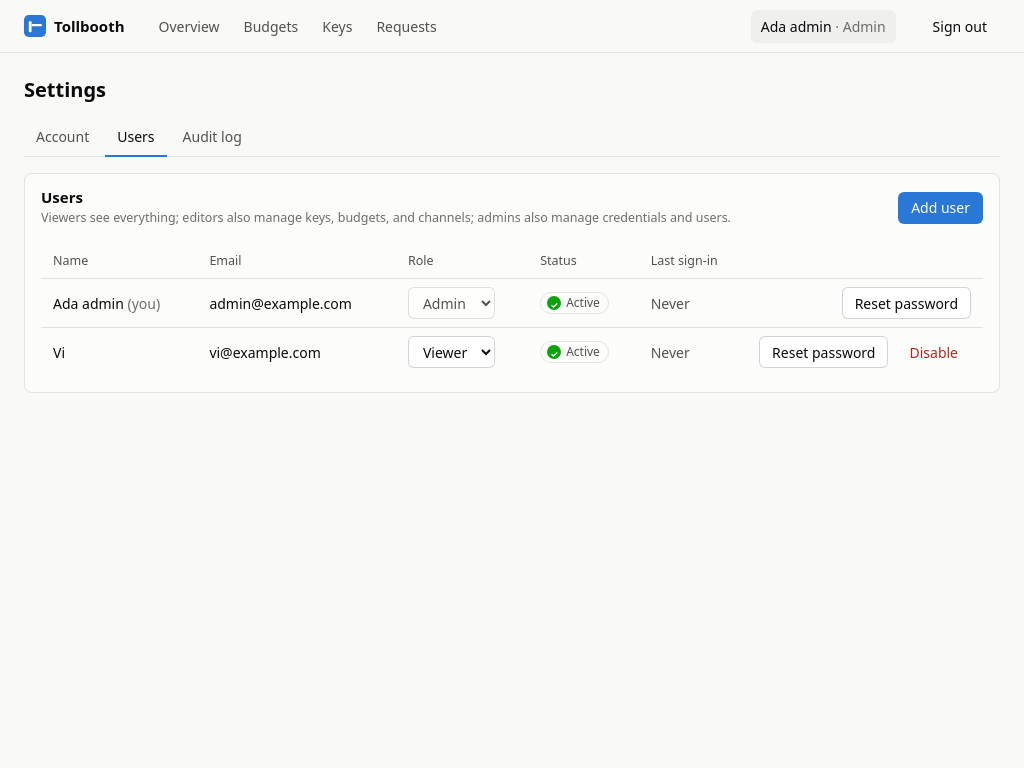
Test case: users settings › changes roles, disables users, and resets passwords
expect the text "(you)" is shown: met, box left=124, top=294, right=160, bottom=313
expect the dropdown named "Role for admin@example.com" in the row of "(you)" is disabled: met, box left=408, top=287, right=495, bottom=319
Select "Editor" in the dropdown named "Role for vi@example.com" next to "vi@example.com" at (451, 352), box left=408, top=336, right=495, bottom=368
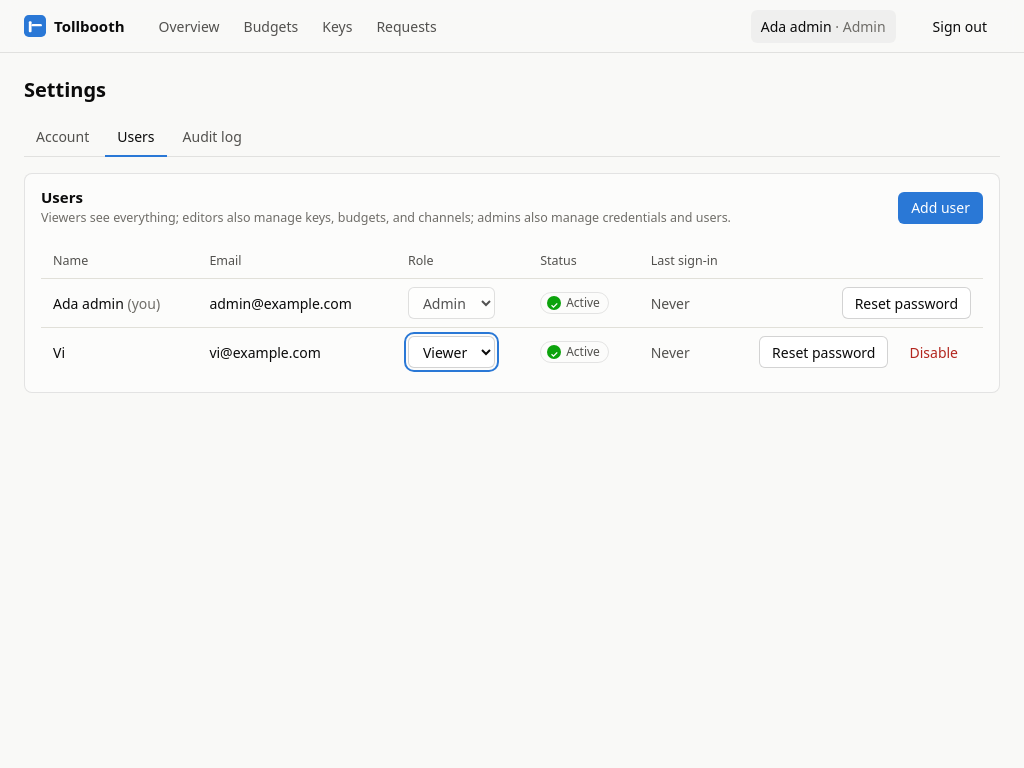
Click the button with aria-label "Disable vi@example.com".
click(934, 352)  # box left=896, top=336, right=971, bottom=368
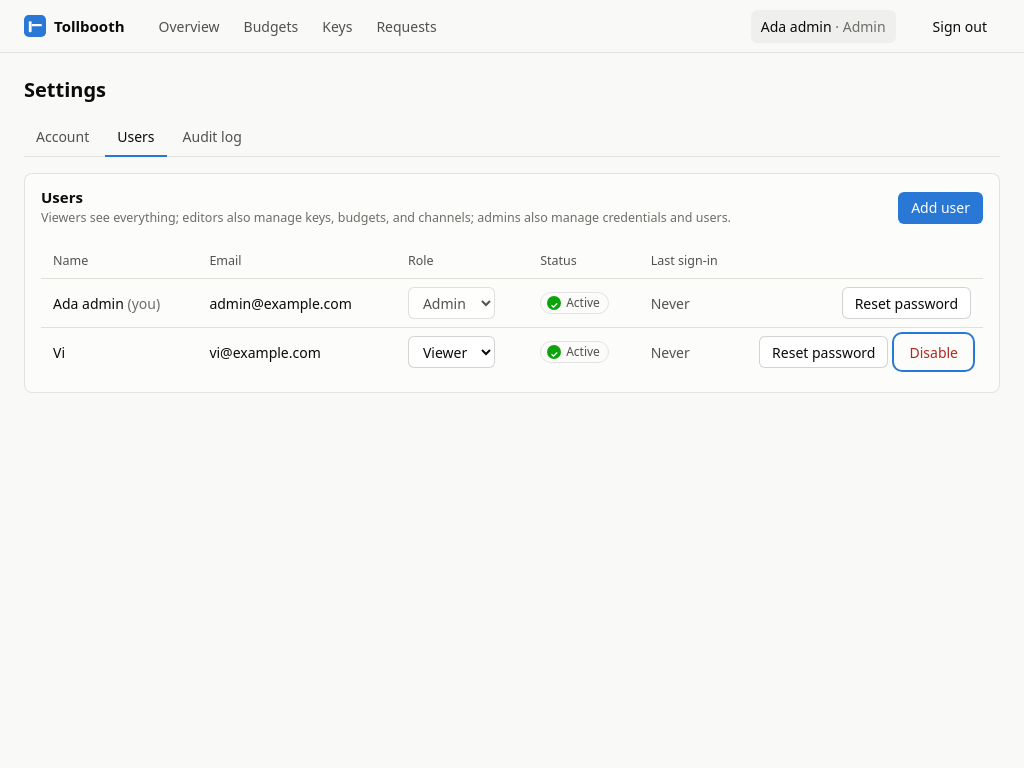
Click the button with aria-label "Reset password for vi@example.com".
click(824, 352)  # box left=759, top=336, right=888, bottom=368
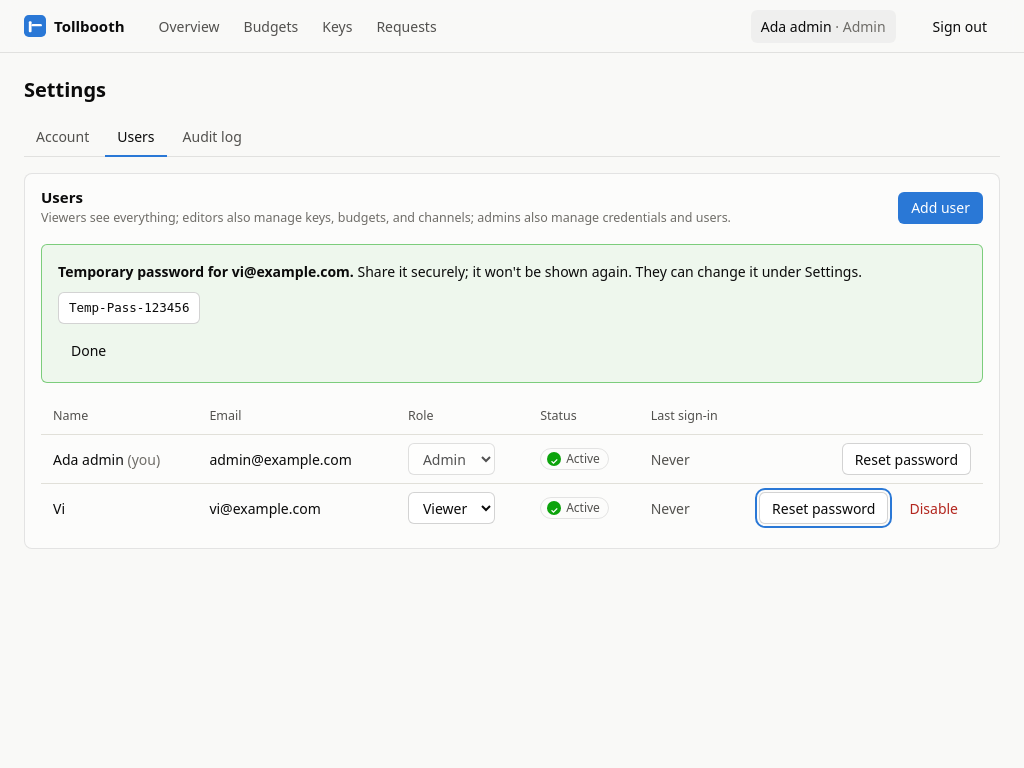
expect the text named "Temporary password" reads "Temp-Pass-123456": met, box left=69, top=300, right=189, bottom=314
